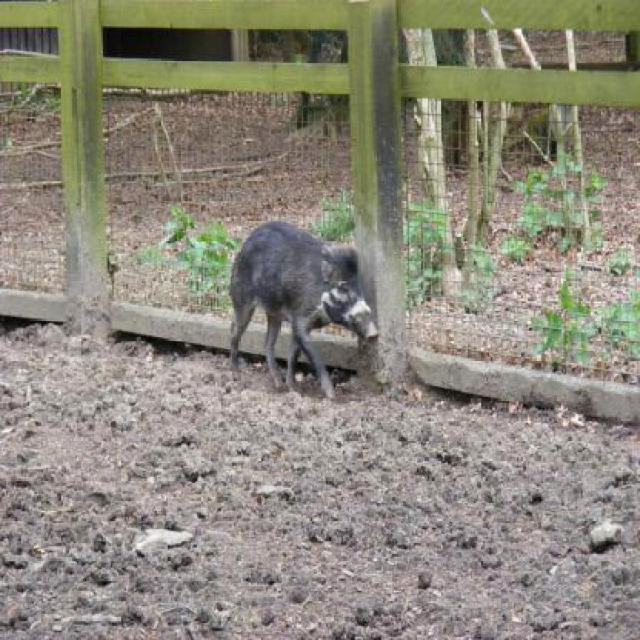Boar: (232, 220, 379, 400)
